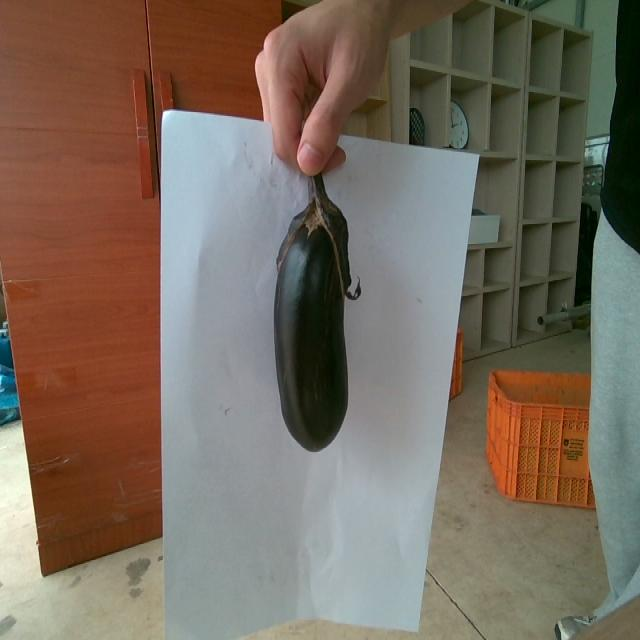Egg plant: (274, 175, 360, 451)
